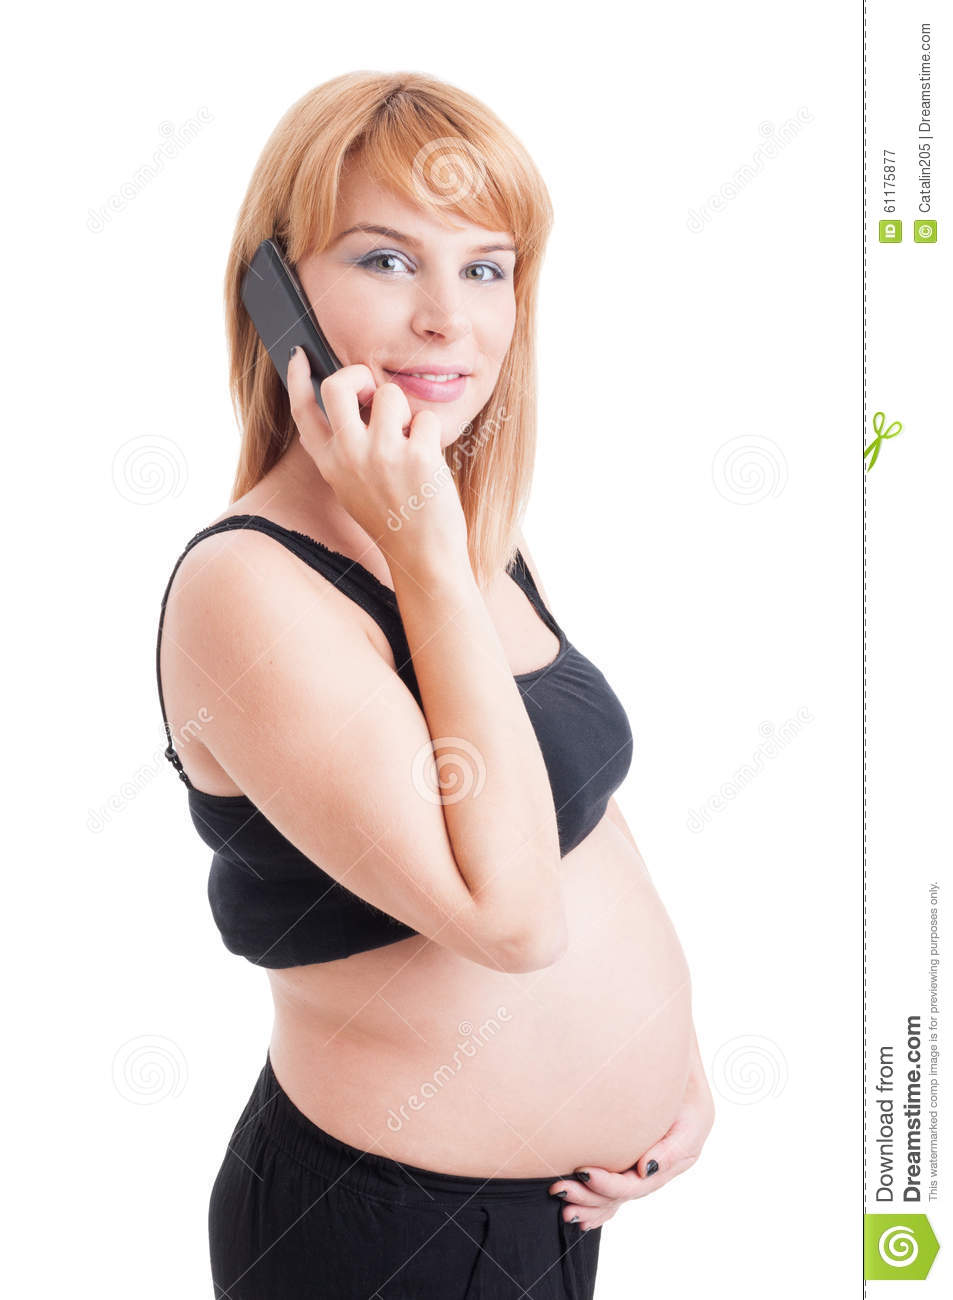phone: (242, 239, 357, 439)
talk: (229, 217, 517, 585)
